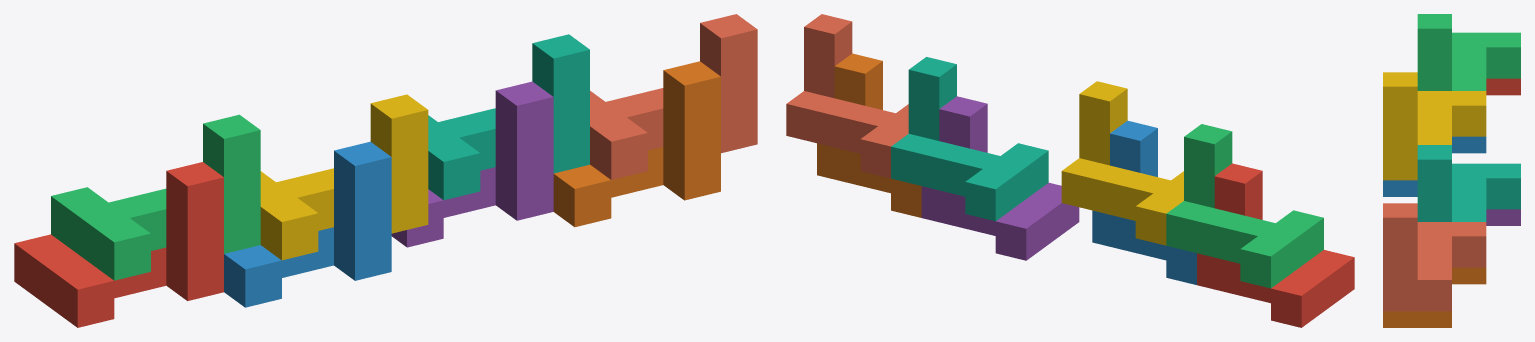
The model's file is tiling.obj.
3 views of the same model, side by side, from view 1: azimuth 30°, elevation 25°; view 2: azimuth 150°, elevation 25°; view 3: azimuth 270°, elevation 25° (orthographic). The views are drawn at different scales.
Parts seen in each view (by area): view 1: copy_1_domain_1, copy_1_domain_3, copy_1_domain_2, copy_1_domain_6, copy_1_domain_4, copy_1_domain_8, copy_1_domain_7, copy_1_domain_5; view 2: copy_1_domain_7, copy_1_domain_3, copy_1_domain_4, copy_1_domain_8, copy_1_domain_1, copy_1_domain_5, copy_1_domain_6, copy_1_domain_2; view 3: copy_1_domain_8, copy_1_domain_4, copy_1_domain_3, copy_1_domain_7, copy_1_domain_6, copy_1_domain_2, copy_1_domain_1, copy_1_domain_5.
Part boxes in pixels (bbox=[...]): copy_1_domain_1: bbox=[14, 162, 223, 327]; copy_1_domain_3: bbox=[51, 114, 260, 280]; copy_1_domain_2: bbox=[224, 141, 391, 307]; copy_1_domain_6: bbox=[553, 61, 720, 227]; copy_1_domain_4: bbox=[260, 94, 428, 260]; copy_1_domain_8: bbox=[590, 14, 757, 179]; copy_1_domain_7: bbox=[428, 34, 589, 200]; copy_1_domain_5: bbox=[391, 81, 553, 247]; copy_1_domain_7: bbox=[891, 57, 1048, 221]; copy_1_domain_3: bbox=[1166, 124, 1323, 288]; copy_1_domain_4: bbox=[1061, 81, 1183, 245]; copy_1_domain_8: bbox=[786, 14, 908, 178]; copy_1_domain_1: bbox=[1197, 163, 1354, 327]; copy_1_domain_5: bbox=[921, 96, 1079, 260]; copy_1_domain_6: bbox=[817, 53, 921, 217]; copy_1_domain_2: bbox=[1092, 120, 1196, 284]; copy_1_domain_8: bbox=[1383, 203, 1486, 311]; copy_1_domain_4: bbox=[1383, 72, 1486, 180]; copy_1_domain_3: bbox=[1417, 14, 1520, 90]; copy_1_domain_7: bbox=[1417, 145, 1520, 221]; copy_1_domain_6: bbox=[1383, 267, 1486, 327]; copy_1_domain_2: bbox=[1383, 136, 1486, 196]; copy_1_domain_1: bbox=[1486, 78, 1520, 95]; copy_1_domain_5: bbox=[1486, 209, 1520, 225].
Size of the model in its own units: 18 by 4 by 4.
